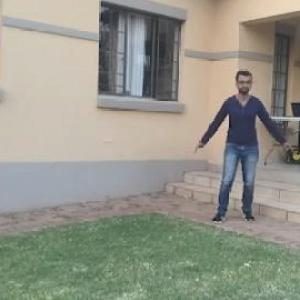land: (188, 74, 284, 228)
